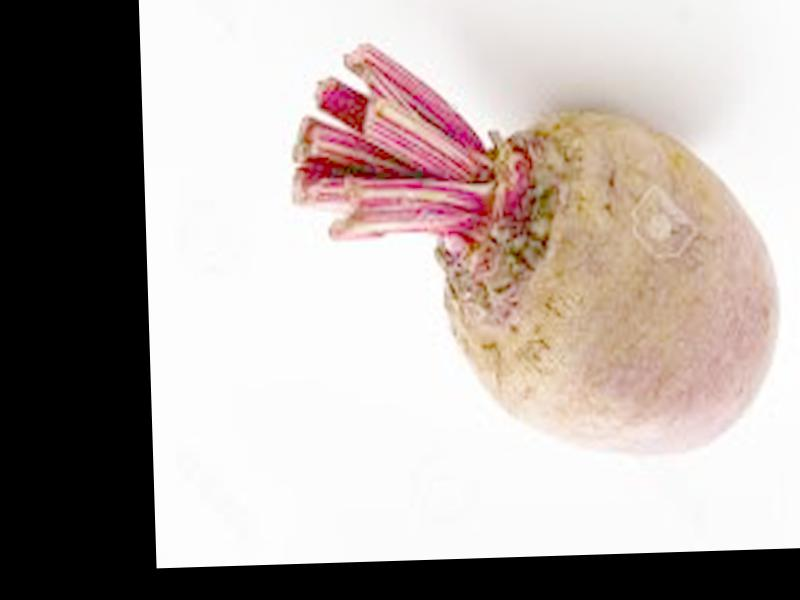Beet: (288, 27, 785, 468)
